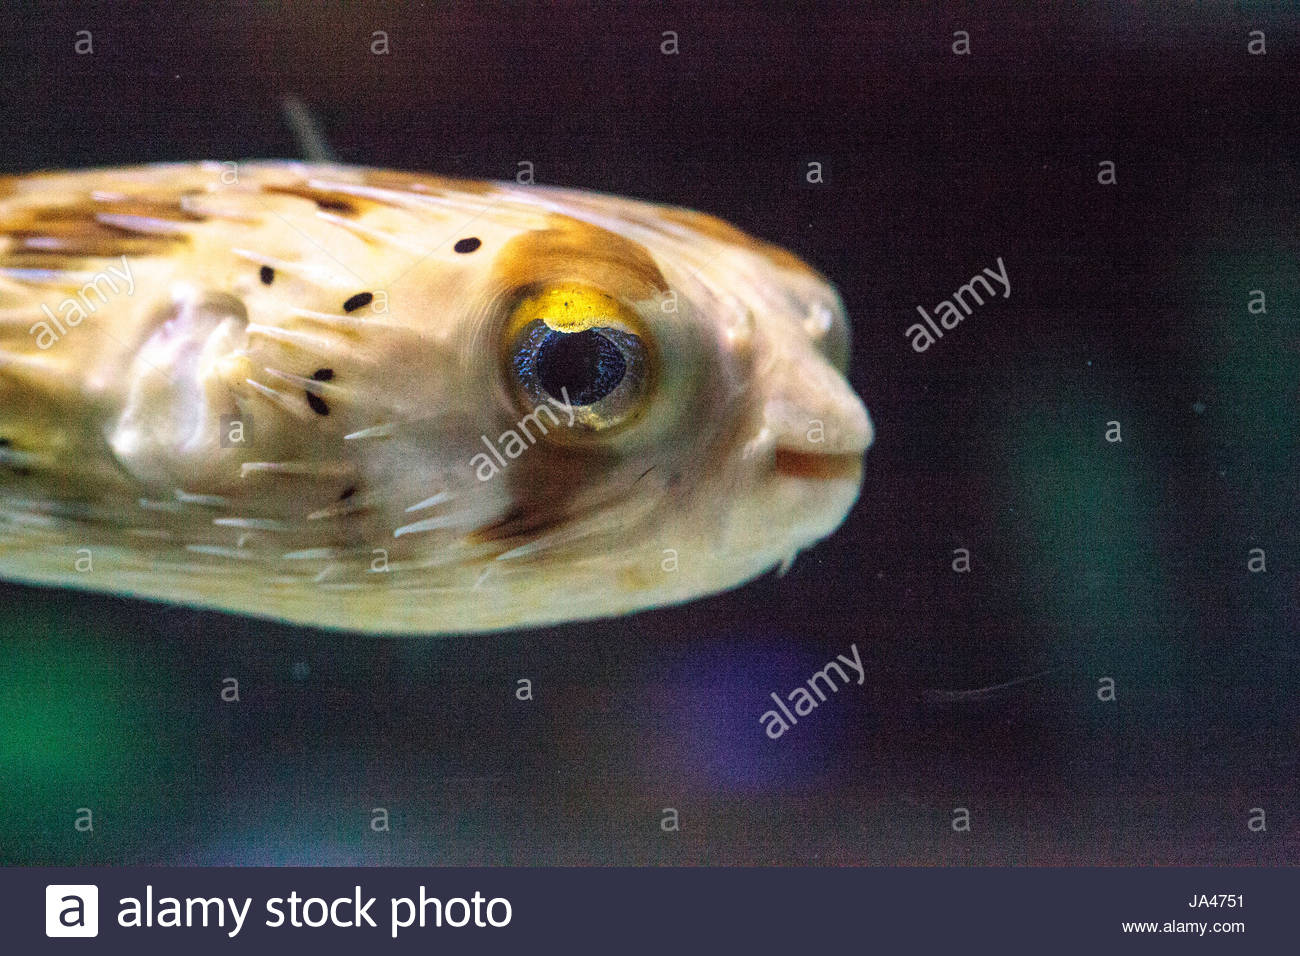Diodon_holocanthus: (1, 114, 926, 662)
